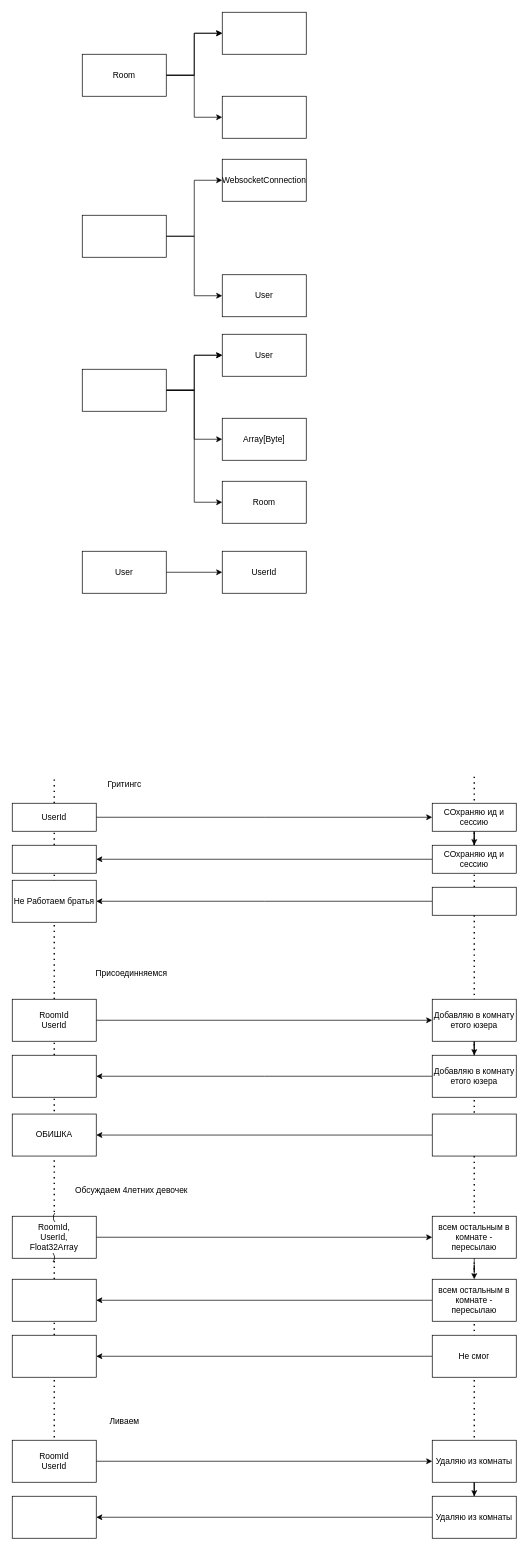
Some shapes in this 529 by 1551 pixel diagram are drawn without their labels. Here are the shapes that lost their labels. From the top down, the box of each, then its label:
(222, 12, 306, 54): List[Session]
(222, 96, 306, 138): RoomId
(82, 215, 166, 257): Session
(82, 369, 166, 411): SoundFrame
(12, 845, 96, 873): Работаем братья
(432, 887, 516, 915): Не получилось сохранить
(12, 1055, 96, 1097): Присоединяем
(432, 1113, 516, 1156): Не получилось
(12, 1279, 96, 1321): Все остальные слышат
(12, 1335, 96, 1377): Обишка на стороне говорящего
(12, 1496, 96, 1538): Удаляю
